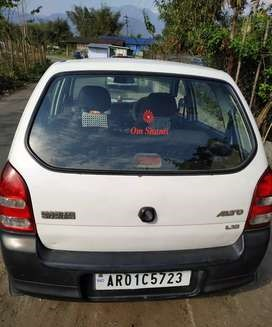AR01C5723: (95, 270, 191, 290)
